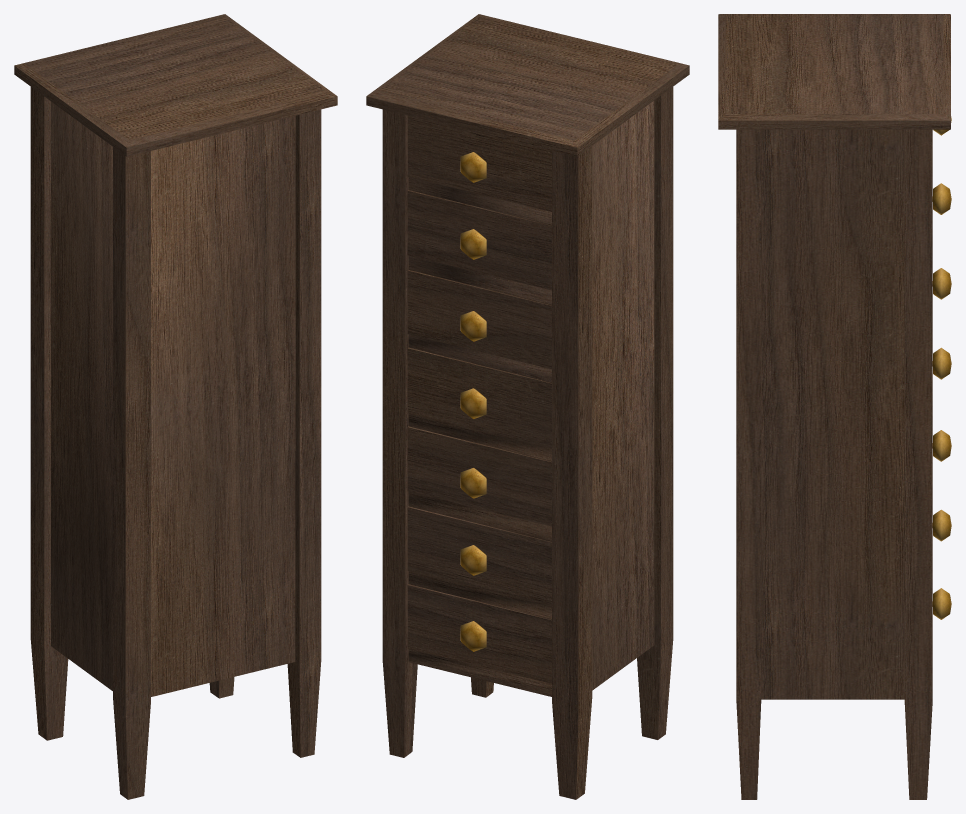
The model's file is locker.obj.
The picture shows the model from 3 angles, left to right: view 1: azimuth 30°, elevation 25°; view 2: azimuth 150°, elevation 25°; view 3: azimuth 270°, elevation 25°; orthographic projection. The views are drawn at different scales.
Visible parts, largest first — view 1: mesh; view 2: mesh; view 3: mesh.
Boxes of the visible parts, x1=… form: mesh: x1=14, y1=14, x2=337, y2=799; mesh: x1=366, y1=14, x2=689, y2=799; mesh: x1=718, y1=14, x2=951, y2=799.
Bounding box in the file's own units: 18.52 × 55.94 × 17.18.
Materials: 1 (1 with a texture image).
